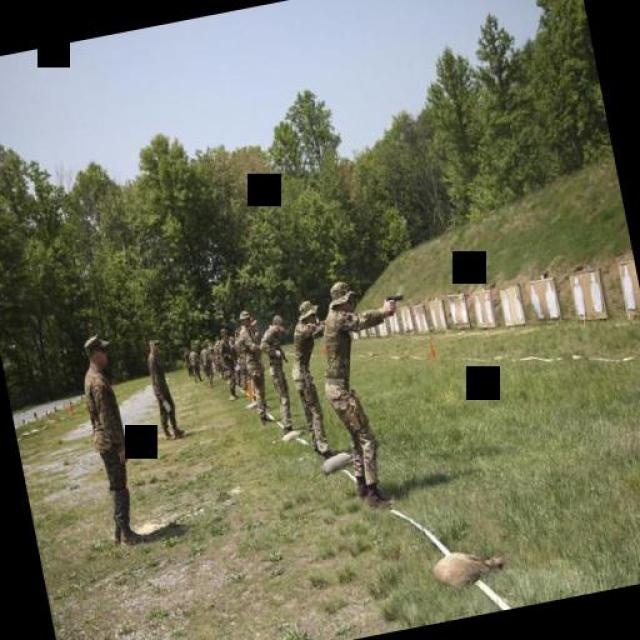gun: (382, 287, 406, 315)
